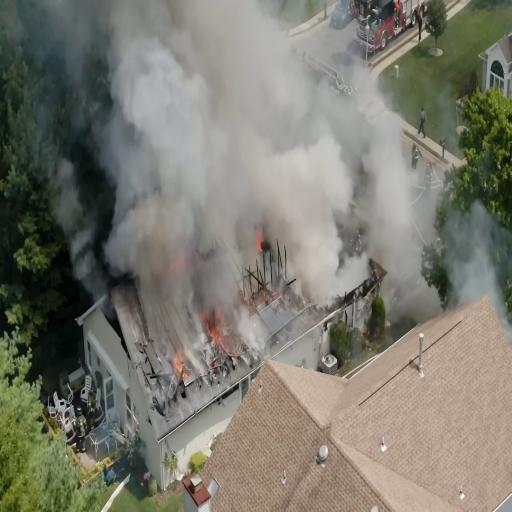smoke: (112, 29, 221, 258), (247, 109, 362, 269)
